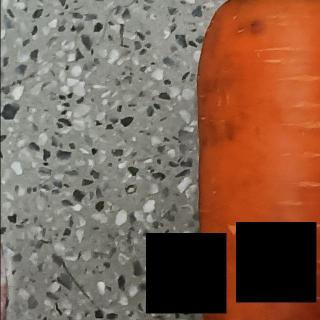carrot: (191, 0, 320, 320)
